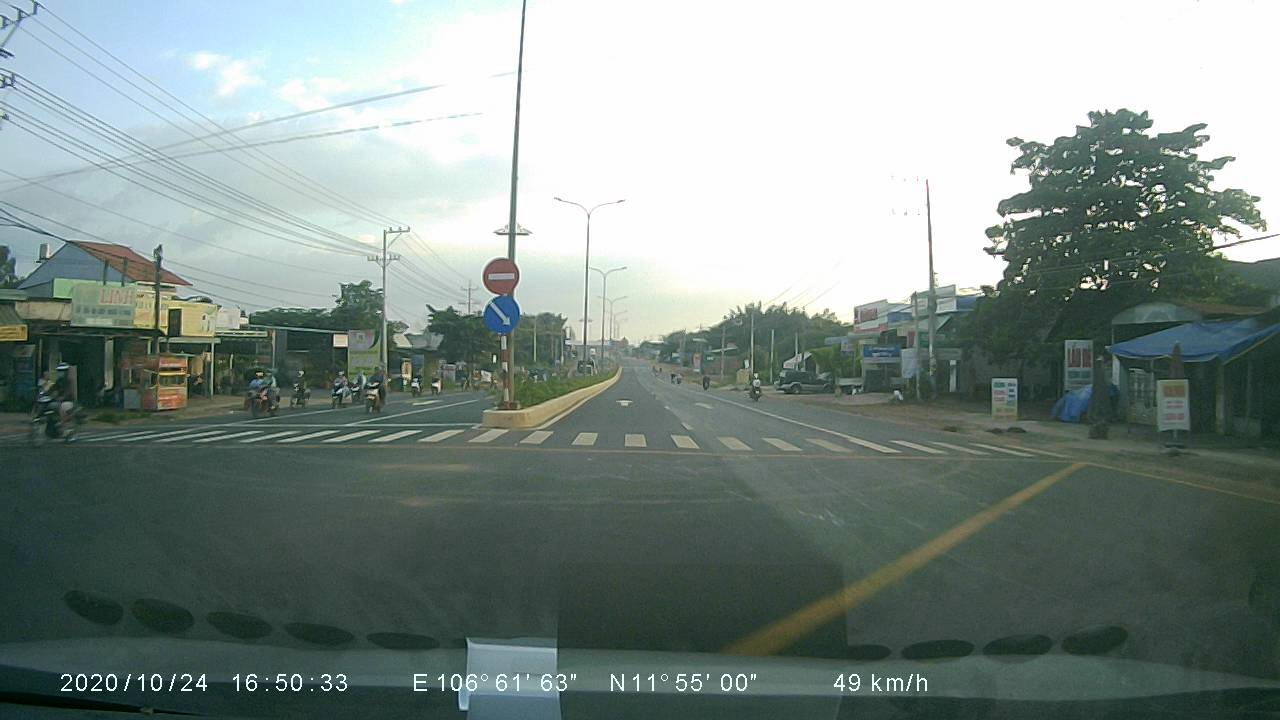Cam di nguoc chieu: (482, 253, 521, 293)
Huong di phai re phai: (481, 294, 522, 333)
